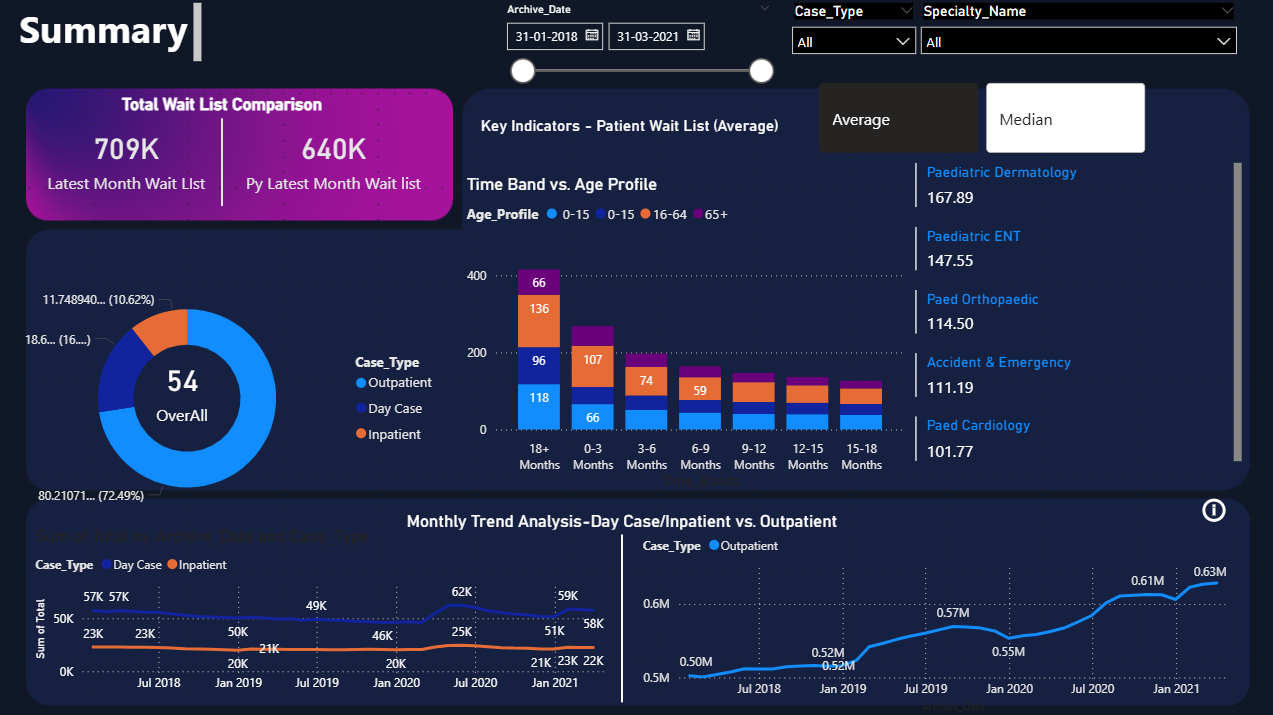

The dashboard page shown, as its layout file describes it:
{"tool":"powerbi","page":{"name":"Summary","canvas":[1280,720],"ordinal":0},"visuals":[{"type":"card","fields":{"Values":["All_Data.Latest Month Wait LIst"]},"box":[32,96,192,128],"z":0},{"type":"card","fields":{"Values":["All_Data.Py Latest Wait list"]},"box":[224,96,224,128],"z":1000},{"type":"donutChart","fields":{"Category":["All_Data.Case_Type"],"Y":["All_Data.Avg/Med Wait List"]},"box":[16,272,432,256],"z":2000},{"type":"columnChart","title":"Time Band vs. Age Profile","fields":{"Y":["All_Data.Avg/Med Wait List"],"Category":["All_Data.Time_Bands"],"Series":["All_Data.Age_Profile"]},"box":[464,176,448,320],"z":3000},{"type":"advancedSlicerVisual","fields":{"Values":["Calculation Method.Calc Method"]},"box":[816,80,336,80],"z":4000},{"type":"multiRowCard","fields":{"Values":["All_Data.Avg/Med Wait List","All_Data.Specialty_Name"]},"box":[912,160,336,320],"z":5000},{"type":"card","fields":{"Values":["All_Data.Nodataright"]},"box":[752,576,416,112],"z":6000},{"type":"lineChart","fields":{"Category":["All_Data.Archive_Date"],"Y":["Sum(All_Data.Total)"],"Series":["All_Data.Case_Type"]},"box":[640,528,608,192],"z":7000},{"type":"slicer","fields":{"Values":["All_Data.Archive_Date"]},"box":[496,0,288,112],"z":8000},{"type":"slicer","fields":{"Values":["All_Data.Case_Type"]},"box":[784,0,144,96],"z":9000},{"type":"textbox","box":[16,0,192,80],"z":10000},{"type":"slicer","fields":{"Values":["All_Data.Specialty_Name"]},"box":[912,0,336,112],"z":11000},{"type":"card","fields":{"Values":["All_Data.Avg/Med Wait List"]},"box":[96,336,176,112],"z":12000},{"type":"shape","title":"Total Wait List Comparison","box":[80,96,288,112],"z":13000},{"type":"shape","title":"Monthly Trend Analysis-Day Case/Inpatient vs. Outpatient","box":[320,512,608,192],"z":14000},{"type":"card","fields":{"Values":["All_Data.Dynamic Title"]},"box":[464,96,336,64],"z":15000},{"type":"card","fields":{"Values":["All_Data.Nodataleft"]},"box":[96,576,416,112],"z":16000},{"type":"lineChart","fields":{"Y":["Sum(All_Data.Total)"],"Series":["All_Data.Case_Type"],"Category":["All_Data.Archive_Date"]},"box":[32,528,592,176],"z":17000},{"type":"actionButton","box":[1200,496,48,32],"z":18000}]}

Visuals, with their boxes in screenshot pixels (x1, y1, x2, y2), scaled from the page's 1280x720 canvas onto the 1273x715 screenshot:
card - All_Data.Latest Month Wait LIst: [left=32, top=95, right=223, bottom=222]
card - All_Data.Py Latest Wait list: [left=223, top=95, right=446, bottom=222]
donutChart - All_Data.Case_Type x All_Data.Avg/Med Wait List: [left=16, top=270, right=446, bottom=524]
"Time Band vs. Age Profile" columnChart: [left=461, top=175, right=907, bottom=493]
advancedSlicerVisual - Calculation Method.Calc Method: [left=812, top=79, right=1146, bottom=159]
multiRowCard - All_Data.Avg/Med Wait List x All_Data.Specialty_Name: [left=907, top=159, right=1241, bottom=477]
card - All_Data.Nodataright: [left=748, top=572, right=1162, bottom=683]
lineChart - All_Data.Archive_Date x Sum(All_Data.Total): [left=636, top=524, right=1241, bottom=714]
slicer - All_Data.Archive_Date: [left=493, top=0, right=780, bottom=111]
slicer - All_Data.Case_Type: [left=780, top=0, right=923, bottom=95]
textbox: [left=16, top=0, right=207, bottom=79]
slicer - All_Data.Specialty_Name: [left=907, top=0, right=1241, bottom=111]
card - All_Data.Avg/Med Wait List: [left=95, top=334, right=271, bottom=445]
"Total Wait List Comparison" shape: [left=80, top=95, right=366, bottom=207]
"Monthly Trend Analysis-Day Case/Inpatient vs. Outpatient" shape: [left=318, top=508, right=923, bottom=699]
card - All_Data.Dynamic Title: [left=461, top=95, right=796, bottom=159]
card - All_Data.Nodataleft: [left=95, top=572, right=509, bottom=683]
lineChart - Sum(All_Data.Total) x All_Data.Case_Type: [left=32, top=524, right=621, bottom=699]
actionButton: [left=1193, top=493, right=1241, bottom=524]
